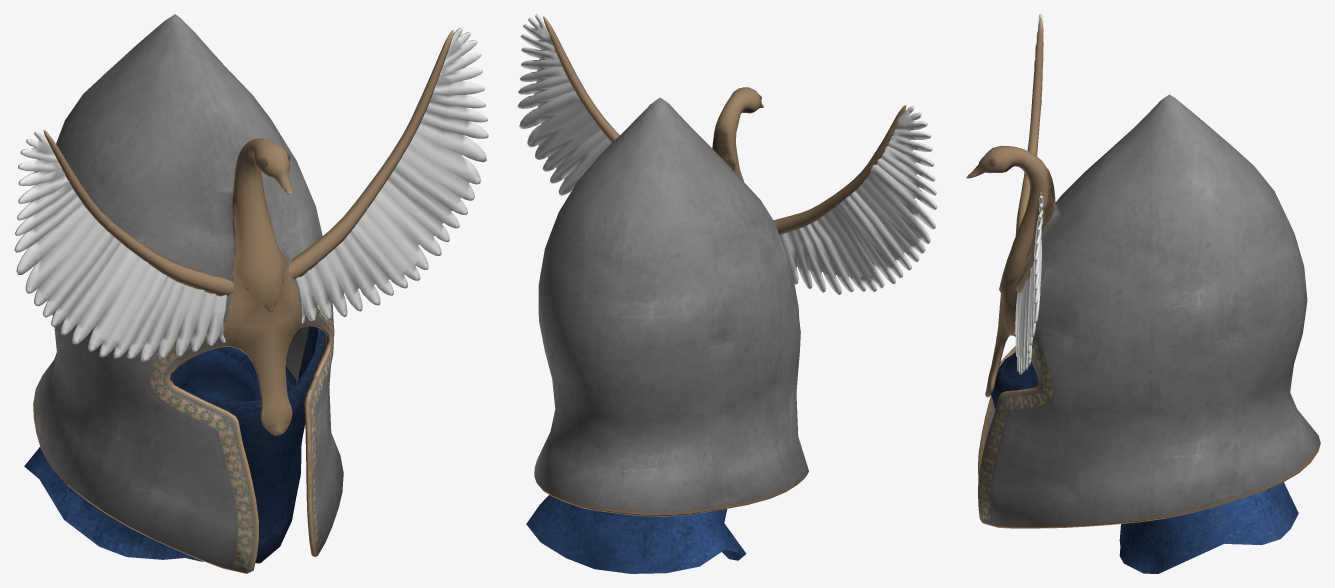
The model's file is swan_knight_helmet_winged_mask.fbx.
The picture shows the model from 3 angles, left to right: view 1: azimuth 30°, elevation 25°; view 2: azimuth 150°, elevation 25°; view 3: azimuth 270°, elevation 25°; orthographic projection. The views are drawn at different scales.
Visible parts, largest first — view 1: swan_knight_helmet_winged_mask; view 2: swan_knight_helmet_winged_mask; view 3: swan_knight_helmet_winged_mask.
Boxes of the visible parts, left/top/right/bottom form: swan_knight_helmet_winged_mask: left=14, top=14, right=488, bottom=573; swan_knight_helmet_winged_mask: left=517, top=14, right=937, bottom=573; swan_knight_helmet_winged_mask: left=966, top=14, right=1320, bottom=573.
Size of the model in its own units: 0.3888 by 0.2886 by 0.4144.
